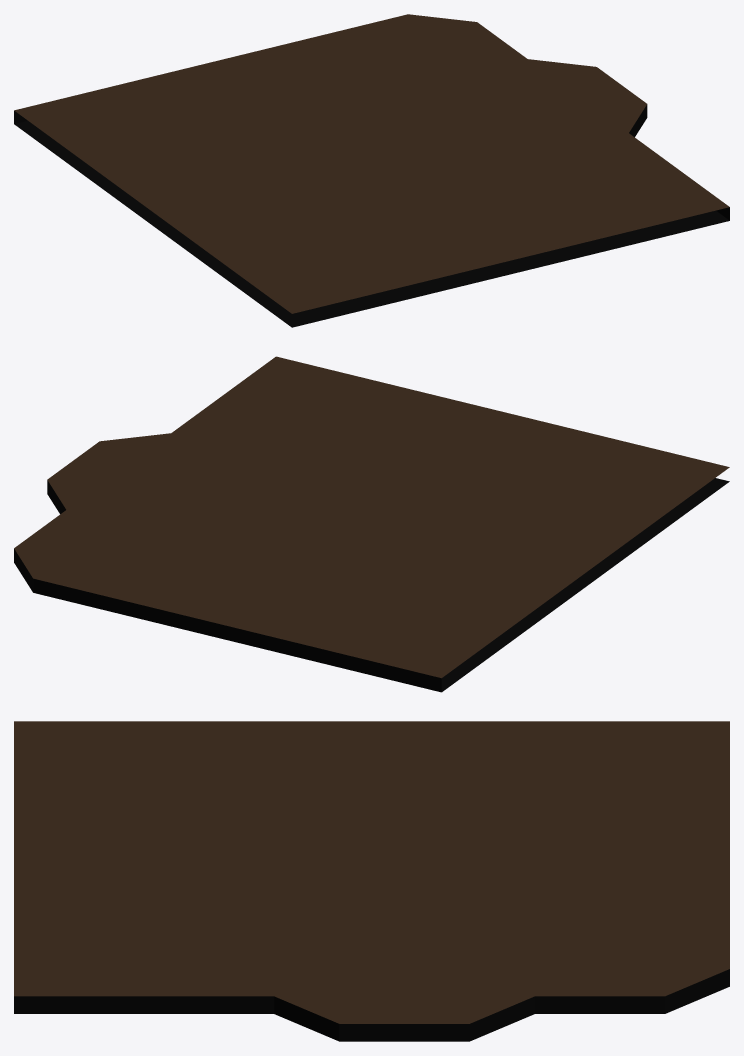
Rendered from SH_lvl1_Floor_03.fbx.
3 views of the same model, one above another, from view 1: azimuth 30°, elevation 25°; view 2: azimuth 150°, elevation 25°; view 3: azimuth 270°, elevation 25° (orthographic). The views are drawn at different scales.
Visible parts, largest first — view 1: Cube.143; view 2: Cube.143; view 3: Cube.143.
Boxes of the visible parts, x1,y1,x2,y2 form: Cube.143: [14, 14, 729, 327]; Cube.143: [14, 356, 729, 692]; Cube.143: [14, 721, 729, 1041].
Bounding box in the file's own units: 11 × 11 × 0.3.
